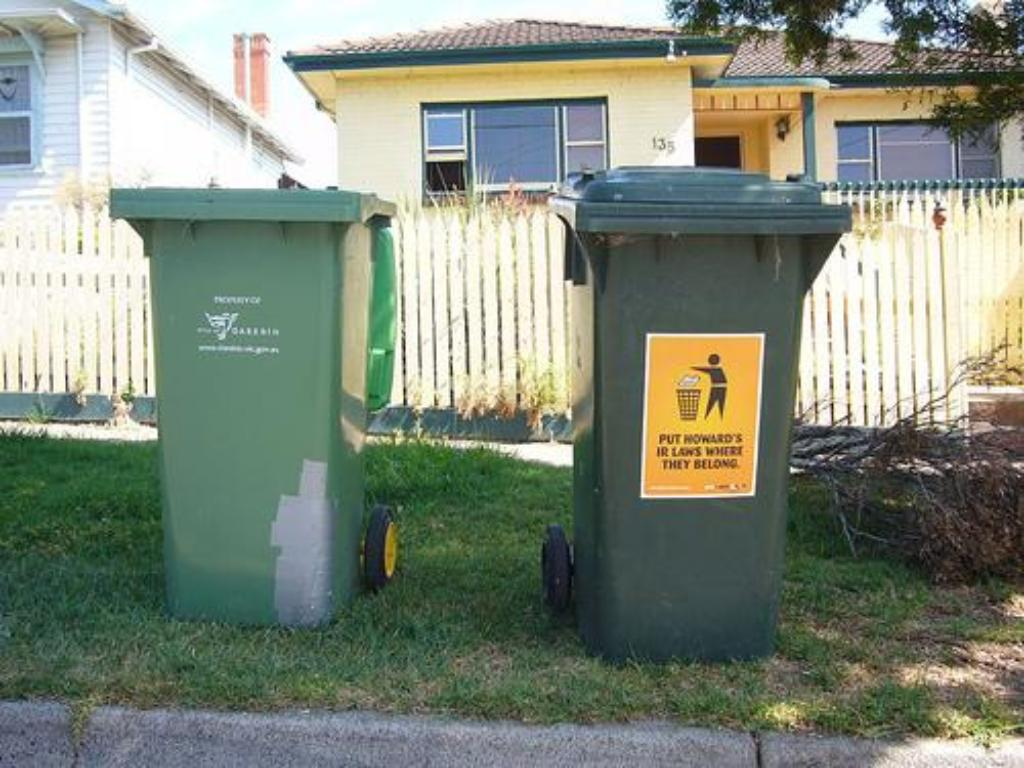dustbin: (542, 161, 848, 677), (110, 179, 420, 649)
